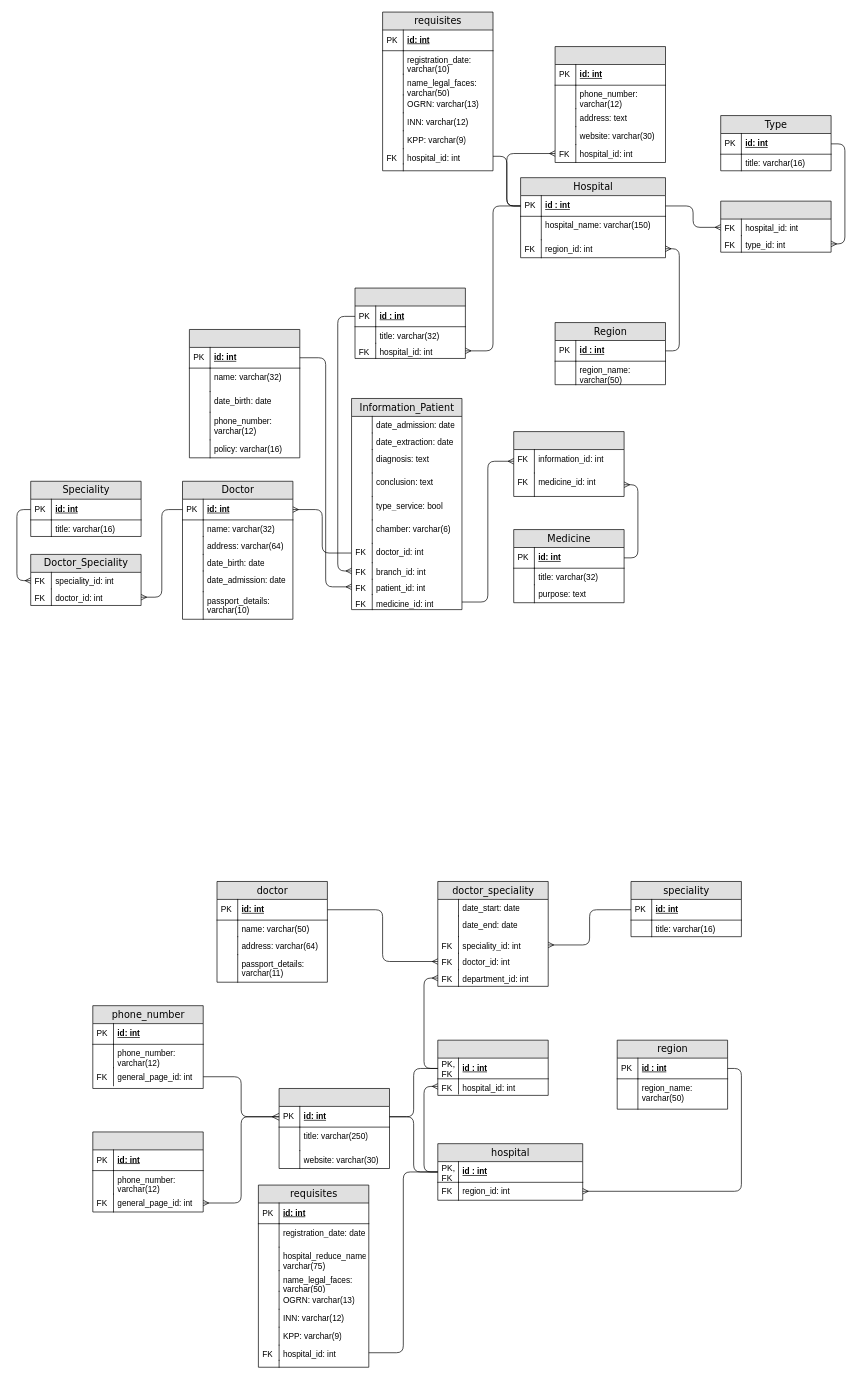
Image size: 863x1379. Some labels were removed from this diagram. The box of each missing label's shape, as (x1, y1, x2, y2) in pixels:
address: (92, 1131, 203, 1212)
Branch: (354, 287, 465, 358)
contact: (554, 46, 666, 162)
department: (437, 1039, 548, 1095)
general_page: (278, 1088, 390, 1169)
Hospital_Type: (720, 200, 831, 252)
Medicine_Information: (513, 431, 624, 496)
Patient: (189, 329, 300, 458)
